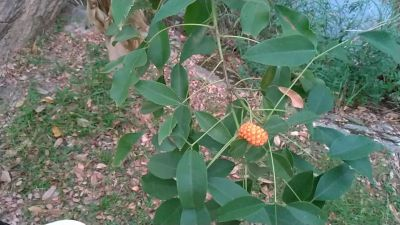eggs: (236, 119, 271, 149)
